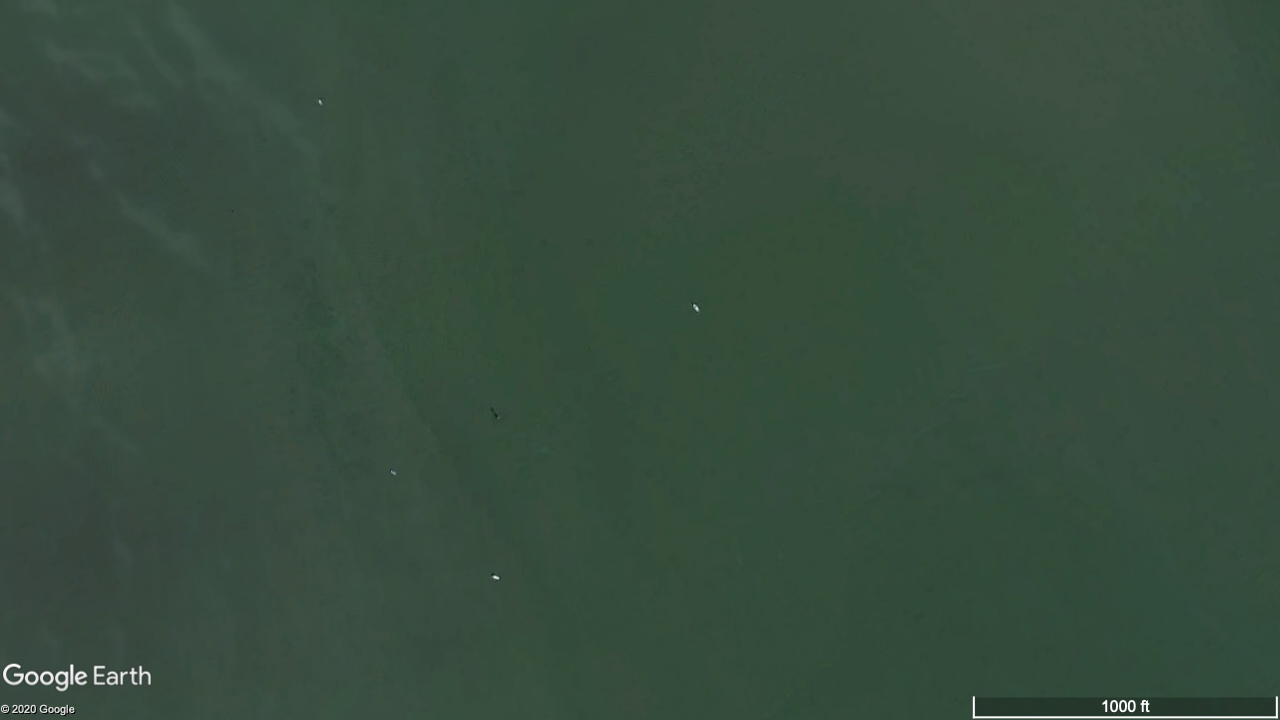satboat: (692, 303, 700, 312), (492, 574, 501, 581), (389, 469, 397, 476), (318, 99, 324, 105)
